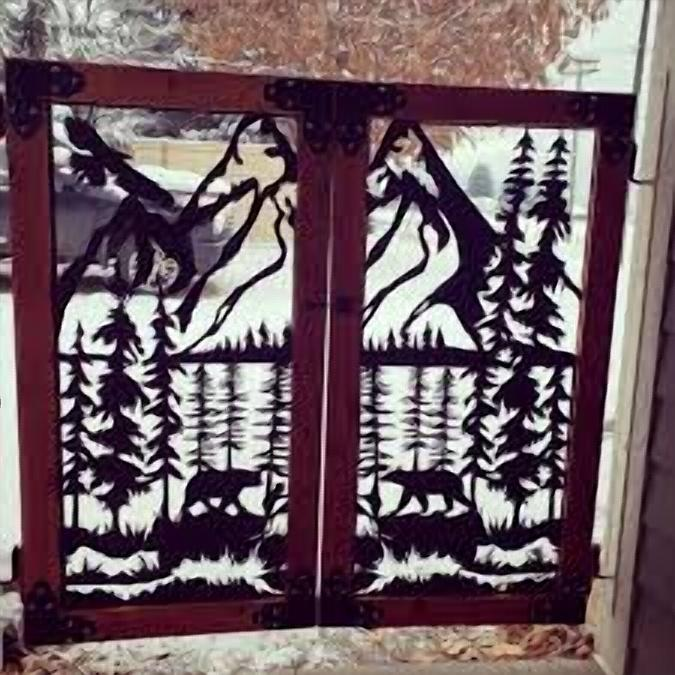Car: (0, 117, 233, 298)
Gate: (0, 51, 642, 648)
